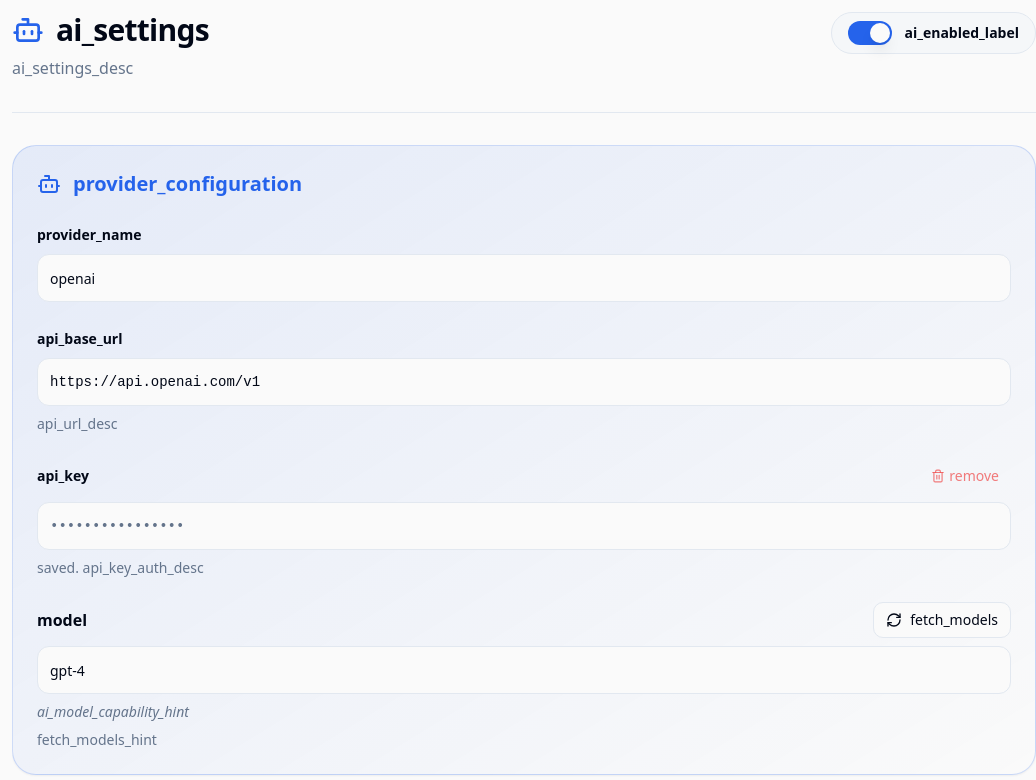
Test: AITab › typing in api key input after remove restores remove button visibility
Click the button "remove".
click(965, 476)  # box [919, 458, 1011, 494]
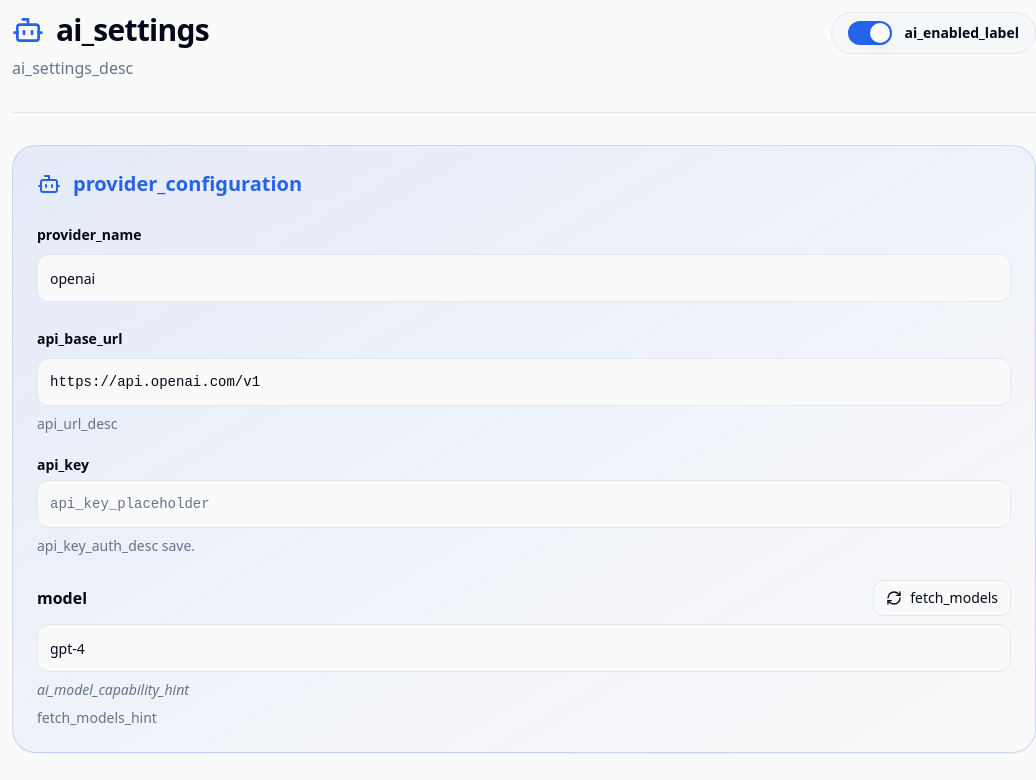
Type "new-secret" into the password field with placeholder "api_key_placeholder".
click(524, 504); type("new-secret")  # box [37, 480, 1011, 528]
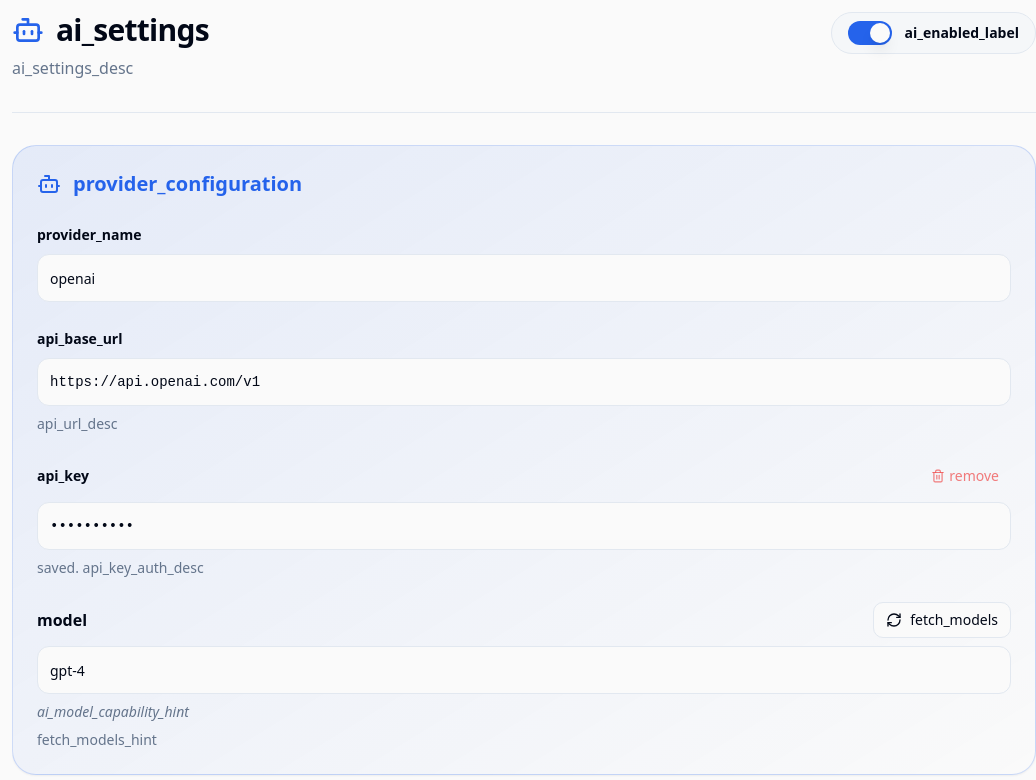
Now the button "remove" is shown, box [919, 458, 1011, 494]
